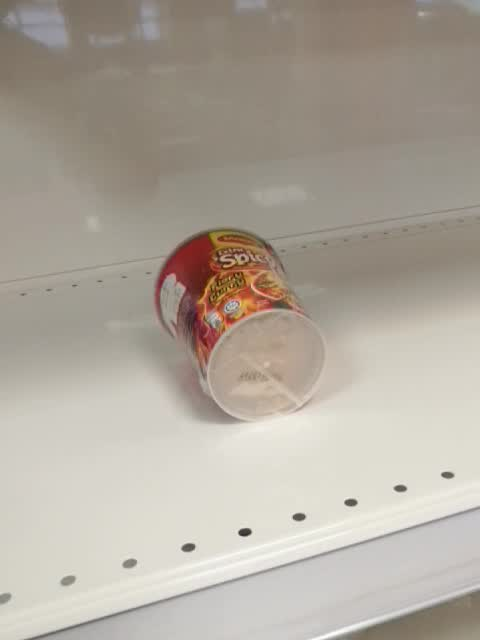maggi: (152, 226, 327, 422)
